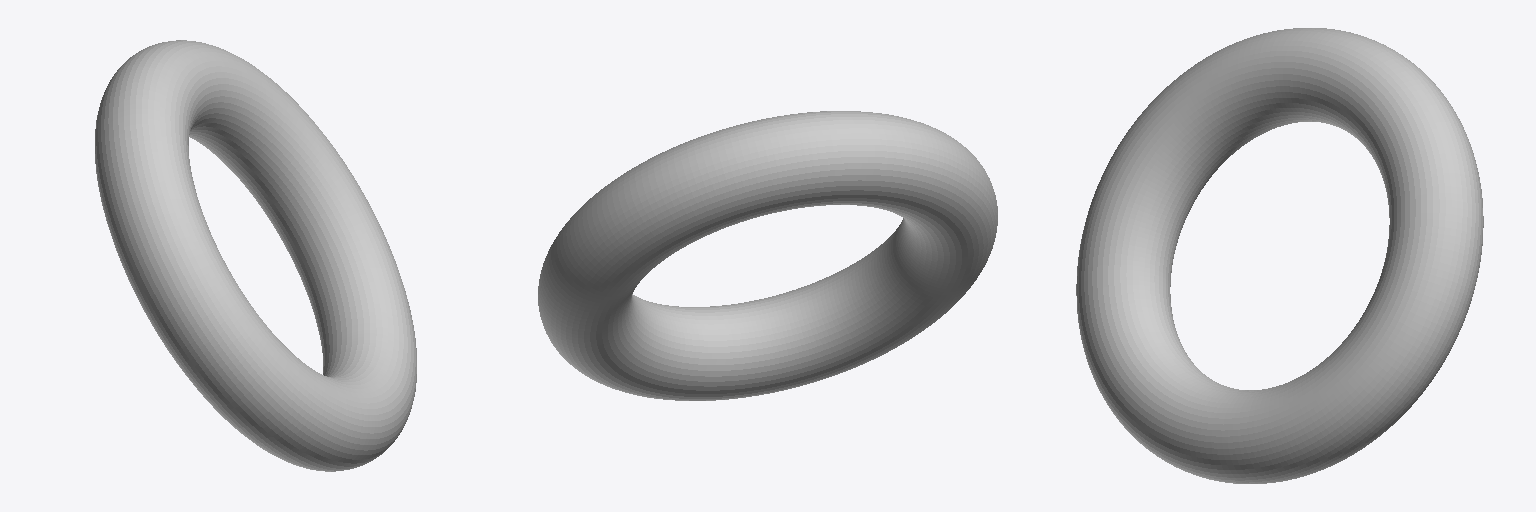
The model's file is 4x_rotated_torus.obj.
3 renders of one model, left to right at view 1: azimuth 30°, elevation 25°; view 2: azimuth 150°, elevation 25°; view 3: azimuth 270°, elevation 25°, orthographic.
Parts seen in each view (by area): view 1: Torus.002; view 2: Torus.002; view 3: Torus.002.
Boxes of the visible parts, box(x1,y1,x2,y2) form: Torus.002: box(95, 40, 416, 471); Torus.002: box(538, 111, 997, 400); Torus.002: box(1076, 28, 1483, 483).
Size of the model in its own units: 2.1 by 2.13 by 2.16.